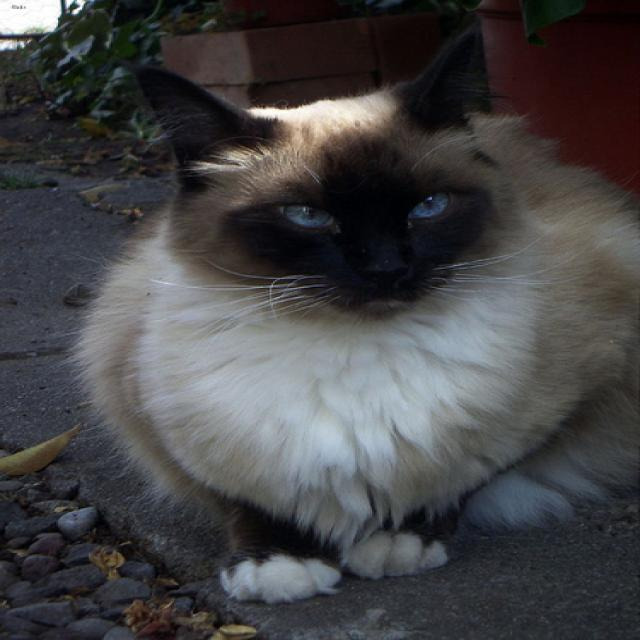Birman: (121, 19, 532, 519)
